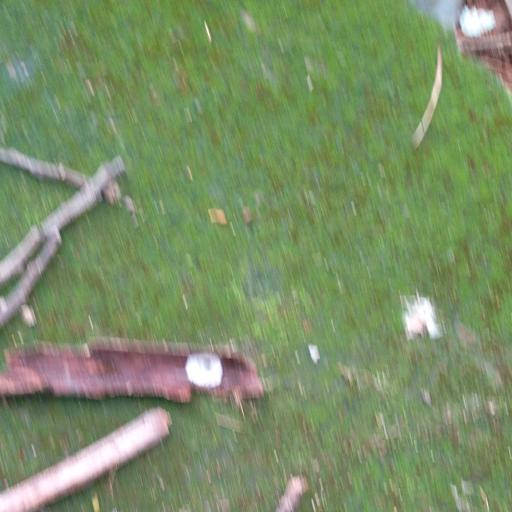algae: (3, 2, 512, 512)
